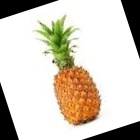Pineapple: (34, 14, 102, 125)
